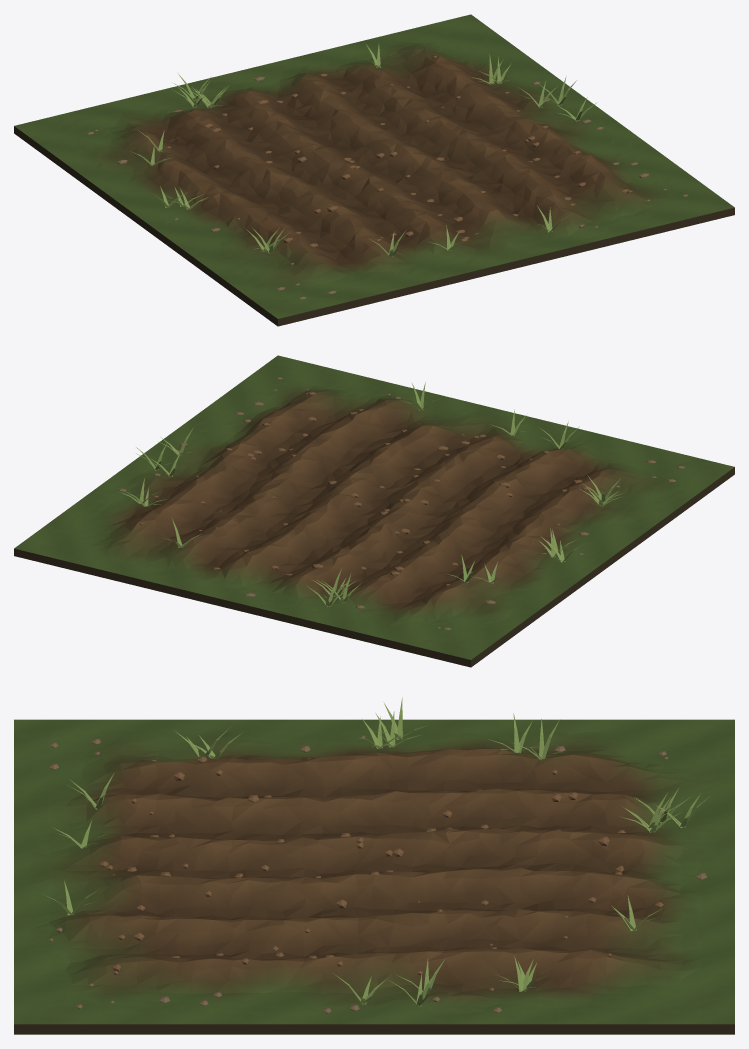
Rendered from plowed-field-v3.glb.
3 views of the same model, one above another, from view 1: azimuth 30°, elevation 25°; view 2: azimuth 150°, elevation 25°; view 3: azimuth 270°, elevation 25° (orthographic). The views are drawn at different scales.
Visible parts, largest first — view 1: Static_mesh; view 2: Static_mesh; view 3: Static_mesh.
Boxes of the visible parts, x1=… form: Static_mesh: x1=14, y1=14, x2=734, y2=326; Static_mesh: x1=14, y1=355, x2=734, y2=667; Static_mesh: x1=14, y1=719, x2=734, y2=1034.
Size of the model in its own units: 3.5 by 0.2692 by 3.5.
